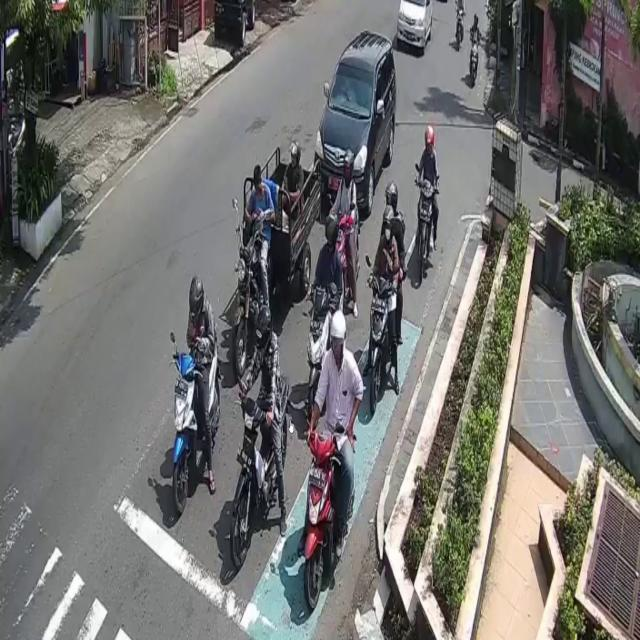car: (314, 30, 396, 216), (396, 0, 432, 57)
motorbike: (230, 376, 290, 572), (172, 327, 221, 517), (304, 430, 342, 616), (232, 246, 273, 367), (306, 285, 328, 418), (371, 266, 392, 399), (414, 178, 434, 286)
